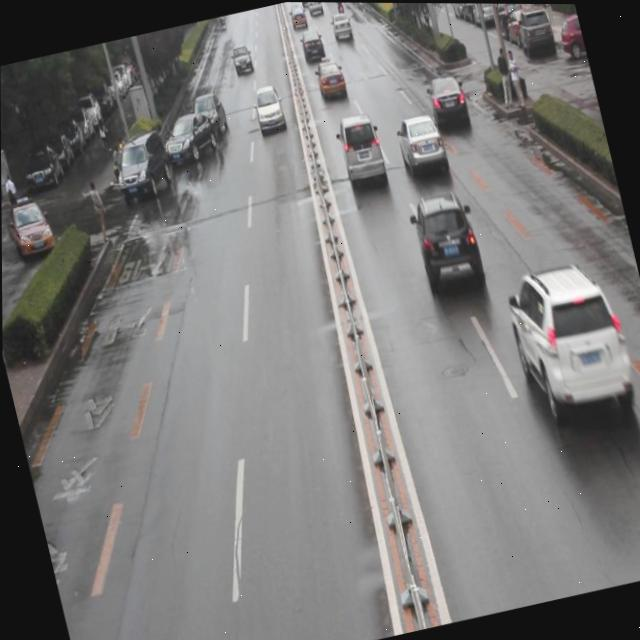car: (496, 251, 640, 437), (406, 186, 486, 303), (157, 106, 220, 170), (390, 112, 447, 179), (422, 68, 469, 132), (187, 88, 228, 140), (248, 83, 284, 133)
truck: (332, 110, 387, 193), (109, 132, 172, 203)
